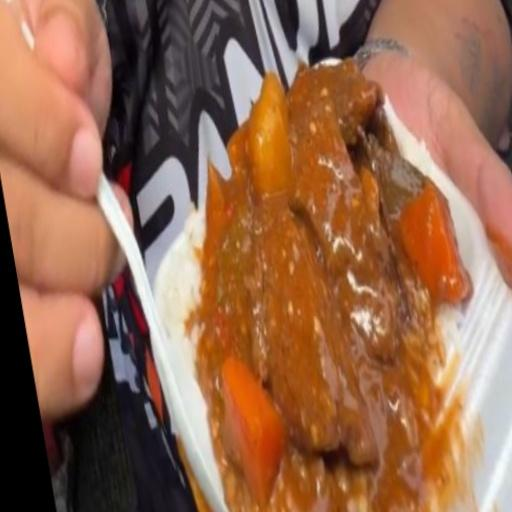pork caldereta: (197, 67, 469, 511)
